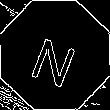N_N: (27, 24, 83, 86)
